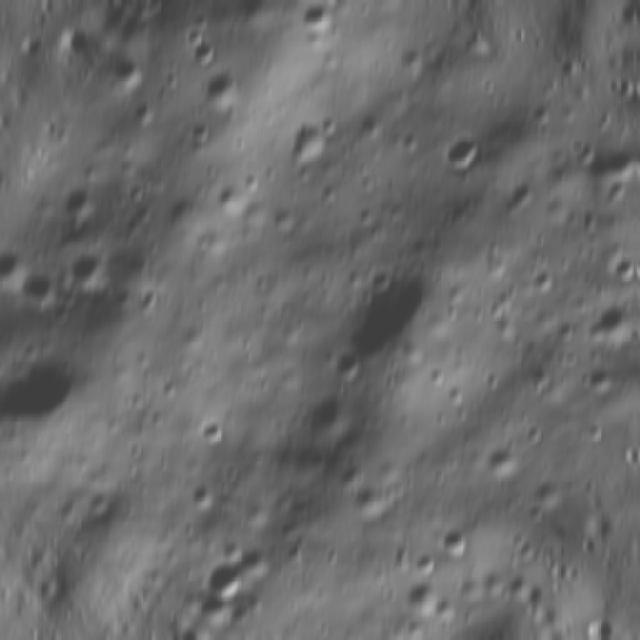crater: (443, 124, 499, 181), (406, 582, 456, 629), (208, 560, 258, 606), (186, 29, 232, 74), (198, 411, 242, 454), (434, 528, 481, 568), (332, 353, 373, 393), (609, 250, 640, 284), (416, 551, 442, 578)
